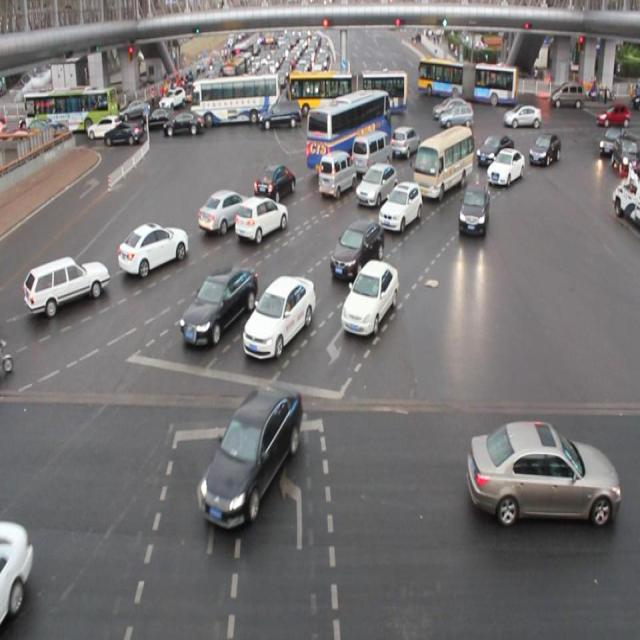car: (466, 414, 619, 526), (199, 383, 303, 533), (243, 272, 316, 363), (180, 266, 256, 348), (23, 254, 109, 318), (342, 260, 398, 340), (117, 221, 188, 277), (329, 222, 384, 280), (196, 186, 254, 235), (236, 193, 289, 243), (377, 182, 422, 232), (457, 178, 487, 240), (356, 162, 397, 204), (485, 148, 526, 190), (254, 163, 296, 203), (476, 134, 514, 166), (390, 125, 419, 161), (528, 134, 559, 166), (442, 125, 471, 159)
truck: (414, 128, 473, 199), (351, 130, 394, 178), (317, 151, 356, 196)
van: (306, 90, 392, 174)
